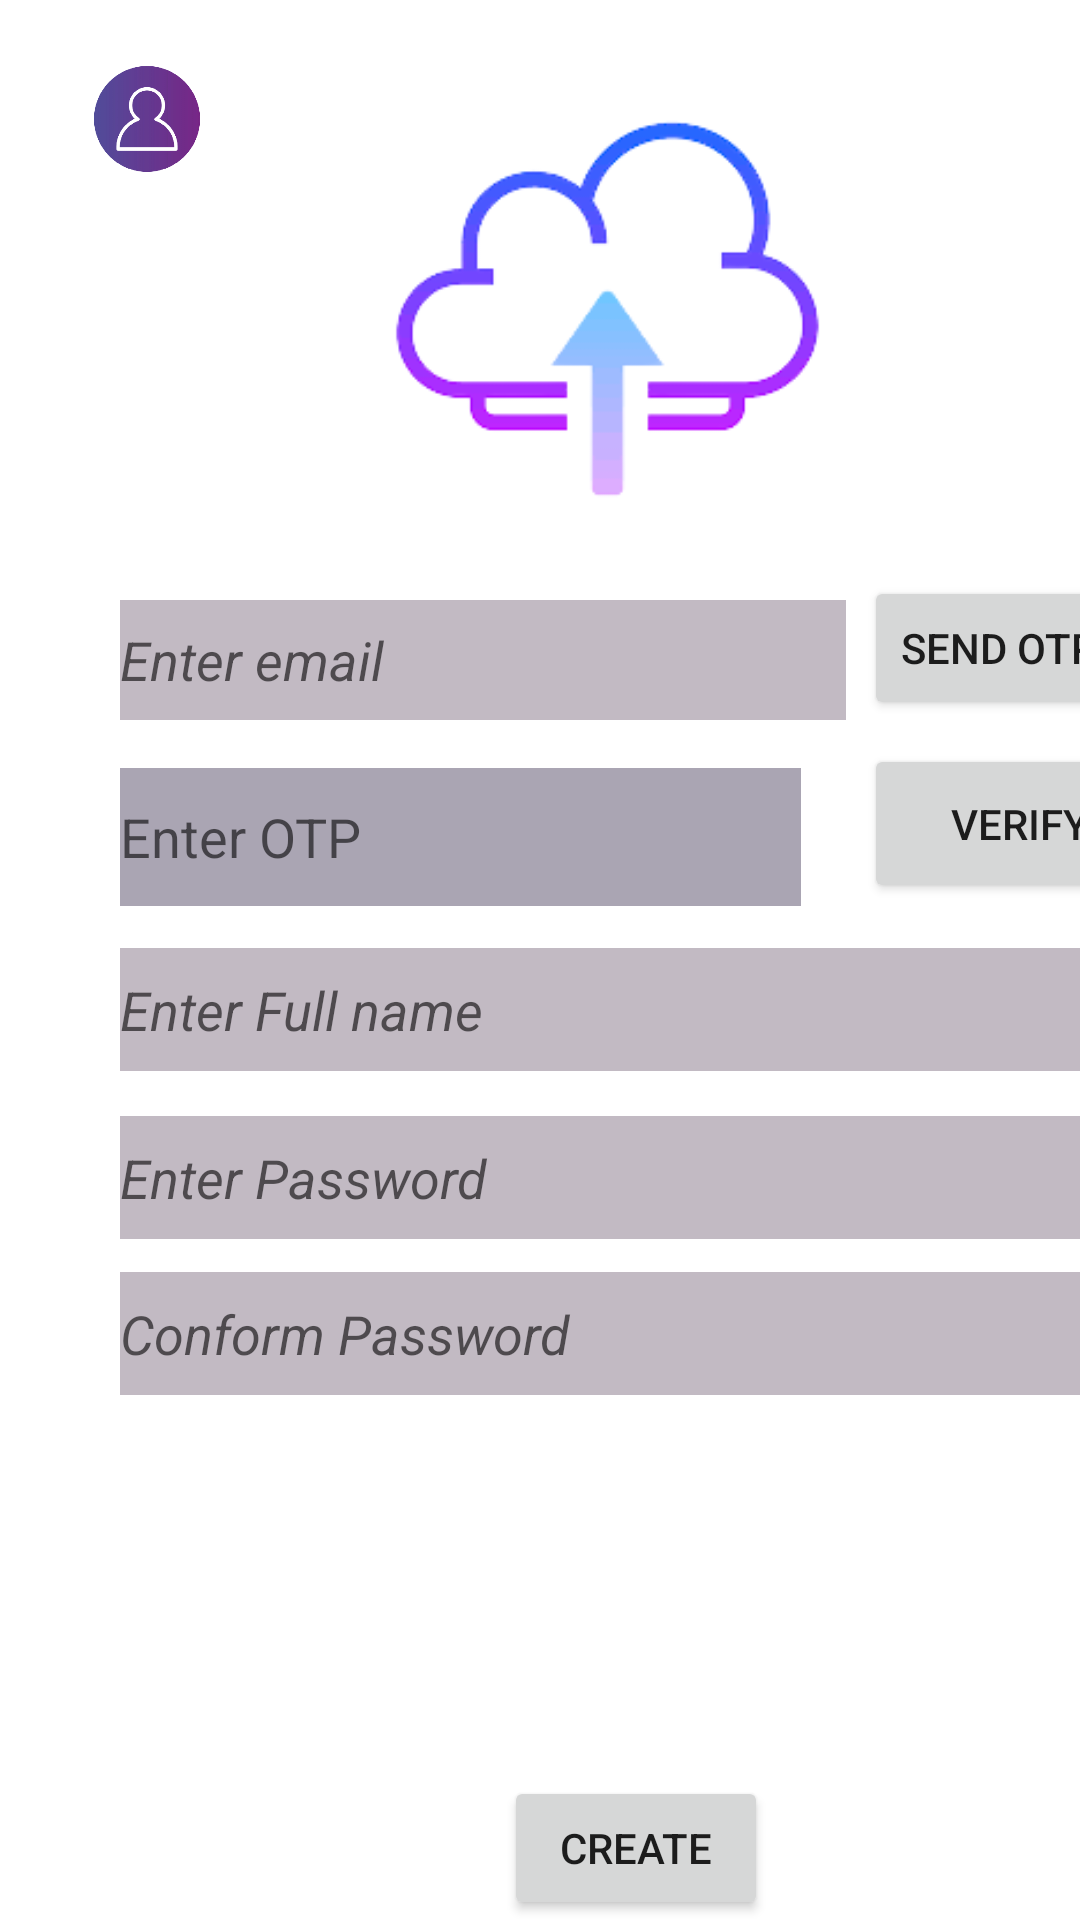

Named icons in this screenshot (1080px×1920px) and their centers, point (x, y):
login create: point (147, 119)
